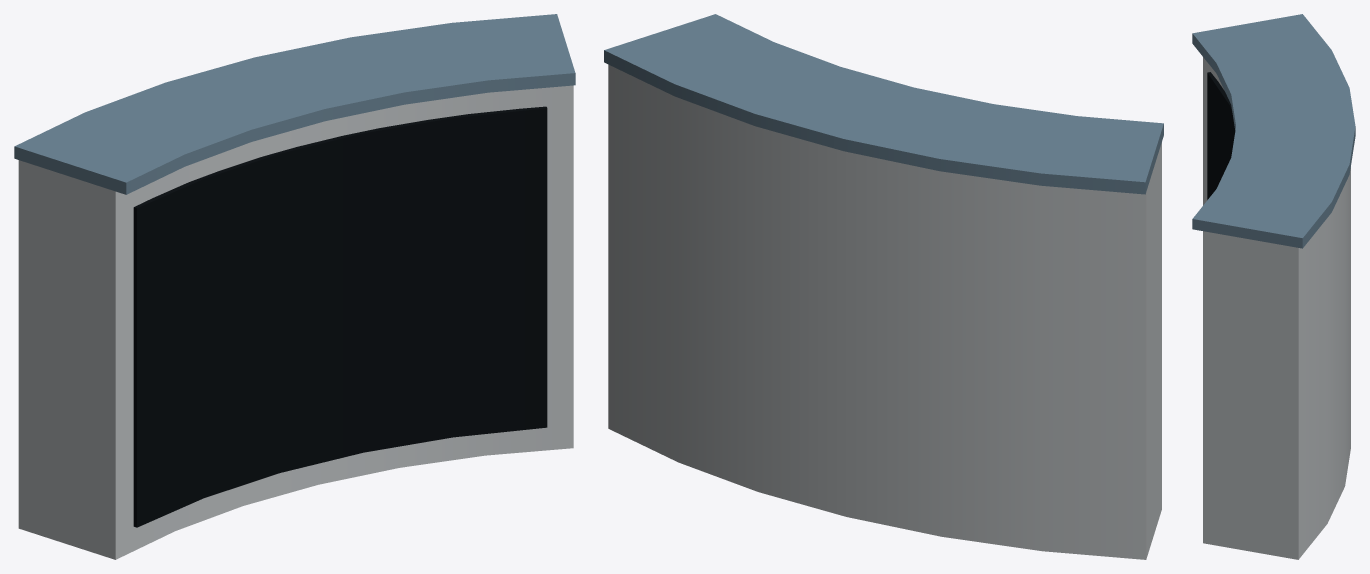
File: curve_cabinet.glb
3 views of the same model, side by side, from view 1: azimuth 30°, elevation 25°; view 2: azimuth 150°, elevation 25°; view 3: azimuth 270°, elevation 25° (orthographic). The views are drawn at different scales.
Parts seen in each view (by area): view 1: sw5e_int_curve_cabinet; view 2: sw5e_int_curve_cabinet; view 3: sw5e_int_curve_cabinet.
Boxes of the visible parts, x1,y1,x2,y2 form: sw5e_int_curve_cabinet: [14, 14, 575, 559]; sw5e_int_curve_cabinet: [604, 14, 1163, 559]; sw5e_int_curve_cabinet: [1192, 14, 1355, 559].
Bounding box in the file's own units: 2.31 × 1.55 × 0.7103.
